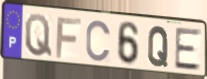6: (116, 20, 141, 68)
C: (85, 19, 113, 64)
E: (173, 27, 203, 72)
F: (54, 16, 83, 60)
Q: (23, 12, 53, 59), (146, 24, 170, 68)
